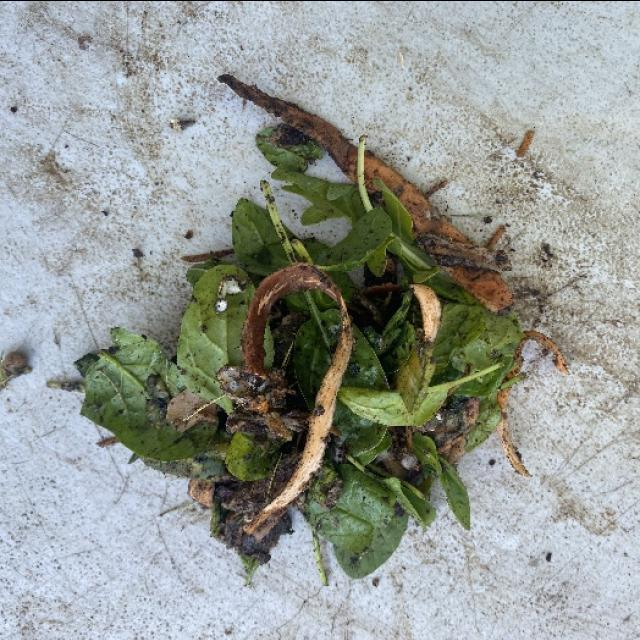organik: (92, 127, 526, 570)
